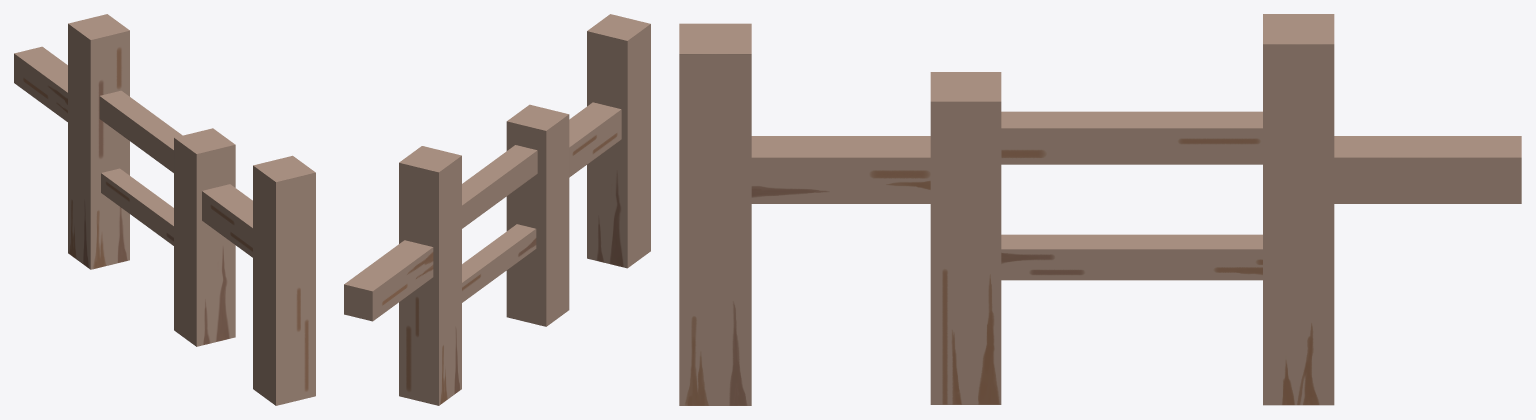
The model's file is Fence B.fbx.
The picture shows the model from 3 angles, left to right: view 1: azimuth 30°, elevation 25°; view 2: azimuth 150°, elevation 25°; view 3: azimuth 270°, elevation 25°; orthographic projection. The views are drawn at different scales.
Visible parts, largest first — view 1: 立方体.008; view 2: 立方体.008; view 3: 立方体.008.
Part boxes in pixels (box(x1,y1,x2,y2)): 立方体.008: box(14, 14, 315, 405); 立方体.008: box(344, 14, 650, 405); 立方体.008: box(679, 14, 1521, 405).
Size of the model in its own units: 66.08 by 364 by 769.
1 material, 1 textured.
